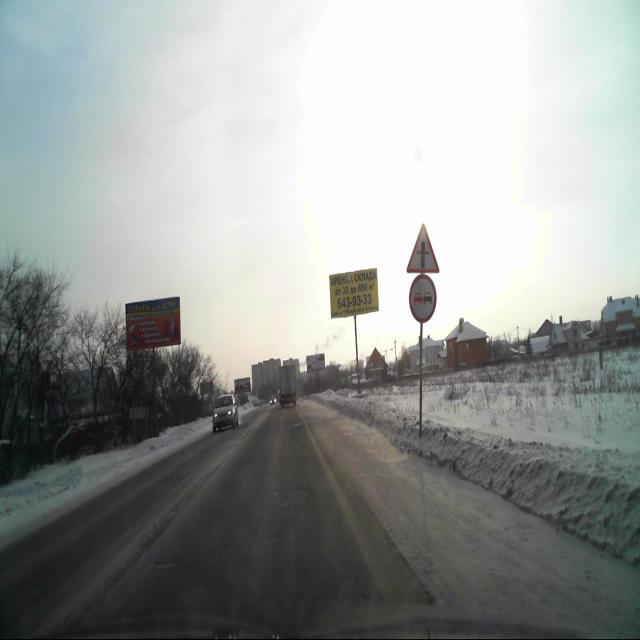object: (418, 322, 424, 443)
road sign: (406, 222, 440, 274)
